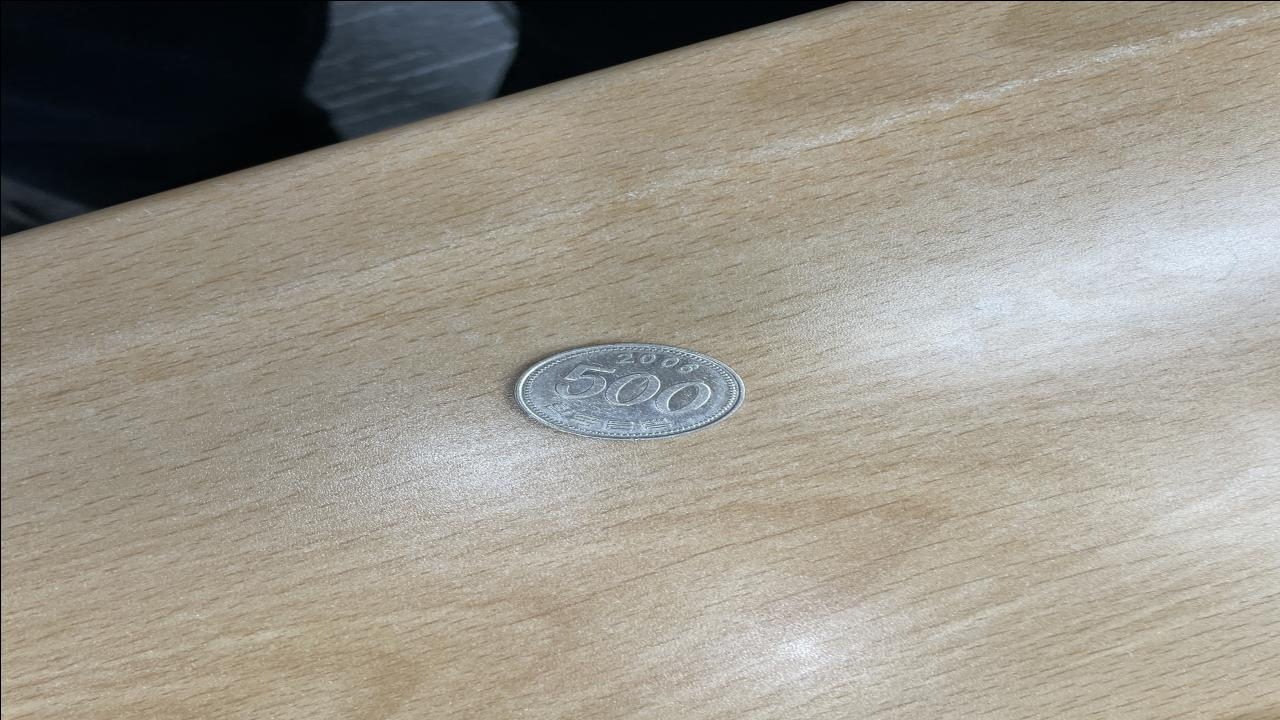coin: (503, 341, 749, 442)
